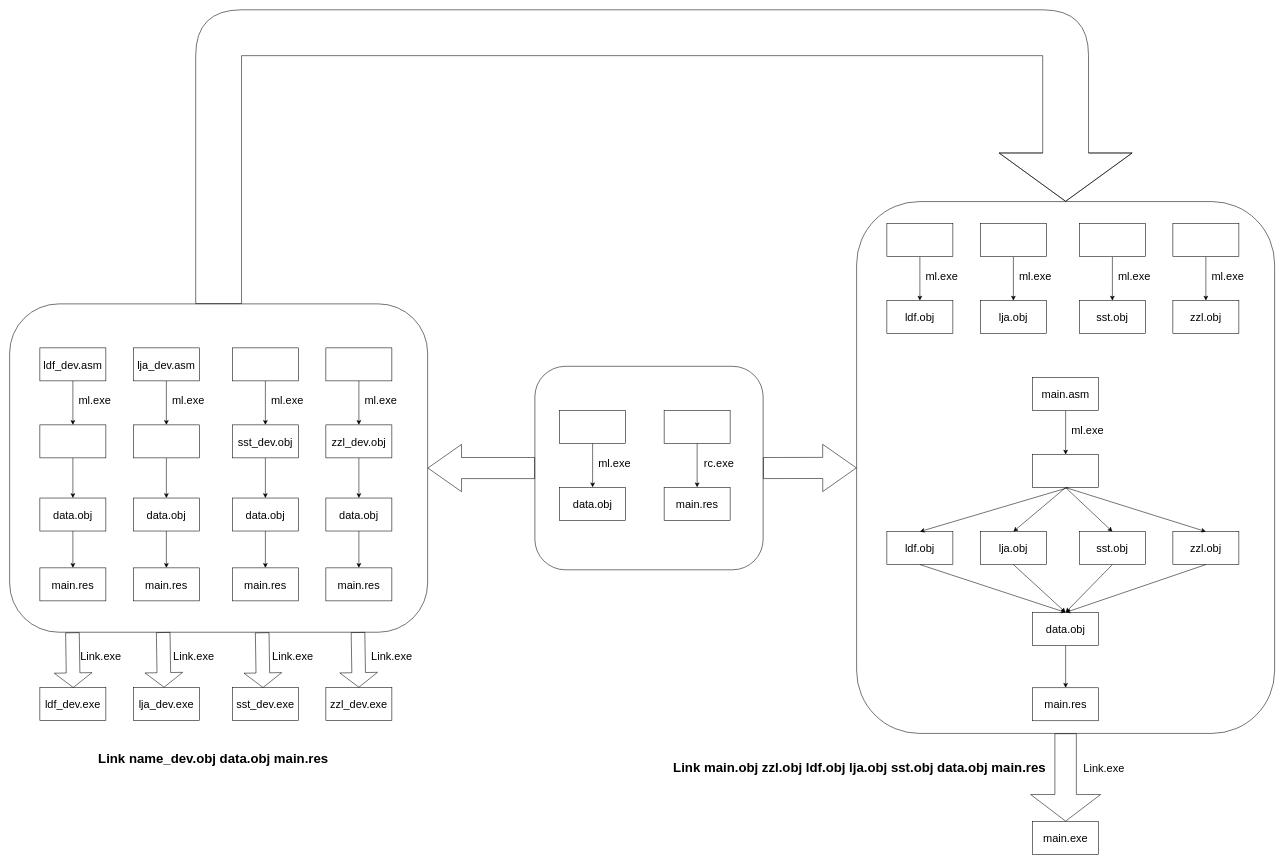
This 1284x864 diagram has some shape labels left out. The shapes that lost their labels are listed below. From the top down, each one's centre as x and y in pixels, then its label:
the point at 919,240: ldf.asm
the point at 1013,240: lja.asm
the point at 1112,240: sst.asm
the point at 1205,240: zzl.asm
the point at 265,364: sst_dev.asm
the point at 358,364: zzl_dev.asm
the point at 72,441: ldf_dev.obj
the point at 166,441: lja_dev.obj
the point at 592,426: data.asm
the point at 697,426: main.rc
the point at 1065,471: main.obj
